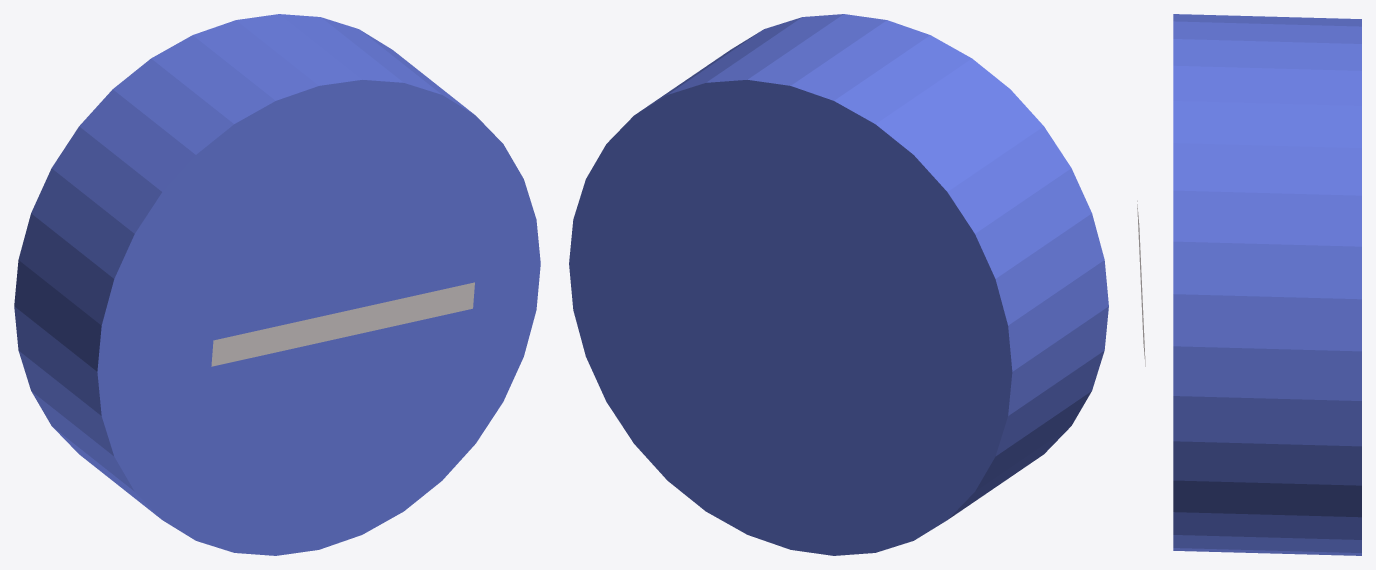
Rendered from menoslista.glb.
3 renders of one model, left to right at view 1: azimuth 30°, elevation 25°; view 2: azimuth 150°, elevation 25°; view 3: azimuth 270°, elevation 25°, orthographic. The views are drawn at different scales.
Visible parts, largest first — view 1: Cilindro, Texto; view 2: Cilindro; view 3: Cilindro.
Part boxes in pixels (x1,y1,x2,y2): Cilindro: [14, 14, 540, 555]; Texto: [211, 282, 474, 366]; Cilindro: [569, 14, 1108, 555]; Cilindro: [1173, 14, 1361, 555].
Size of the model in its own units: 0.0609 by 0.0602 by 0.0251.
